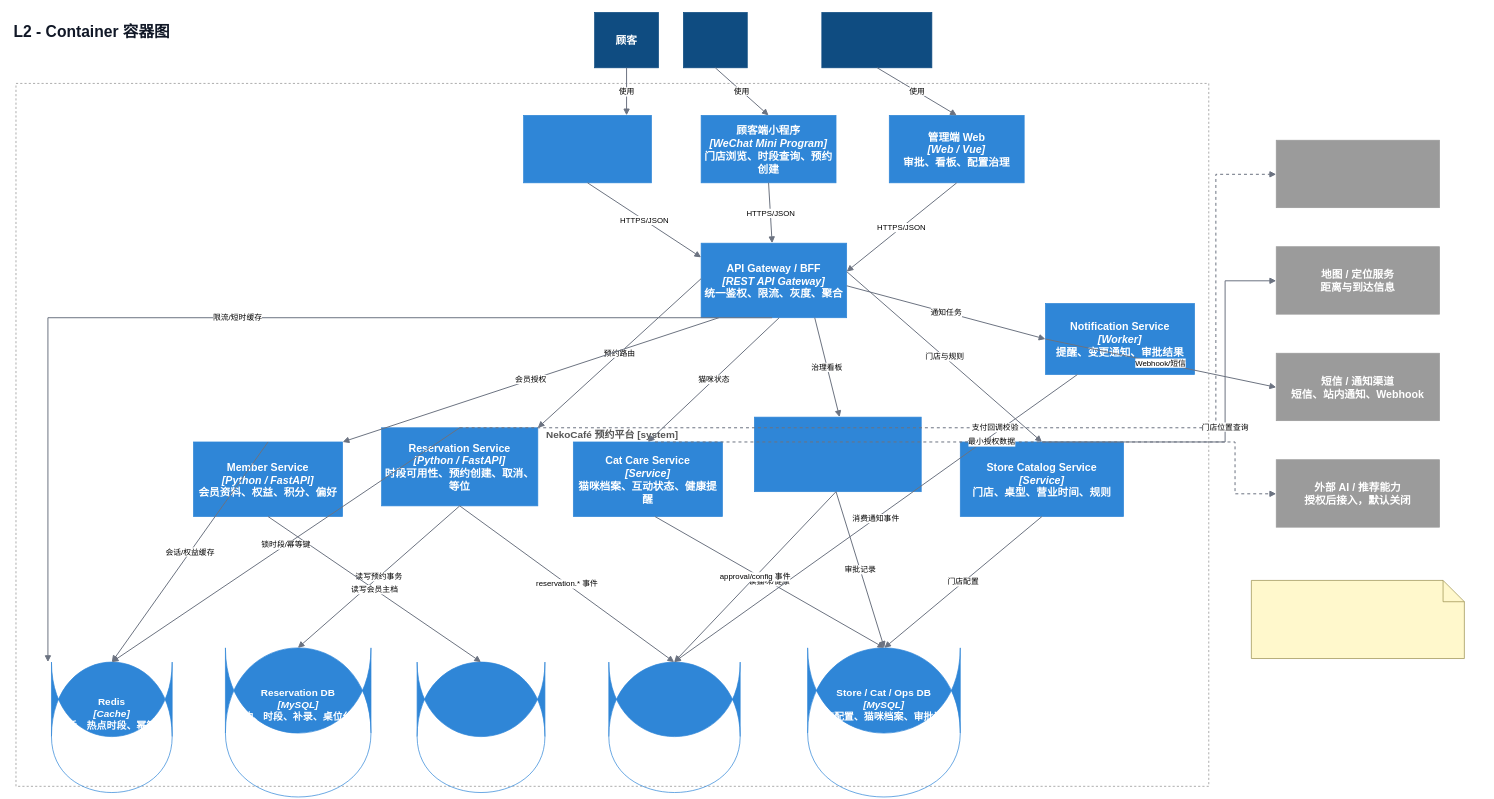
This 1494x799 diagram has some shape labels left out. The shapes that lost their labels are listed below. From the top down, each one's box as (x1, y1, x2, y2) in pixels, then its label:
(683, 12, 747, 68): 店员
(821, 12, 932, 68): 管理员
(523, 115, 651, 183): 店员端 Web [Web / Vue] 核销、改桌、猫咪状态
(1276, 140, 1440, 208): 支付平台 支付 / 退款 / 回调
(754, 416, 921, 492): Operations Governance [Service] 审批流、预警闭环、审计治理
(1251, 580, 1464, 659): 跨系统约束 支付成功不直接承诺预约资源 会员隐私不包含储值金融账户 AI 接入需审批与最小数据集
(416, 661, 545, 737): Member DB [MySQL] 账号、会员档案、积分、权益
(608, 661, 740, 737): RabbitMQ [AMQP] 领域事件、通知投递、异步补偿
